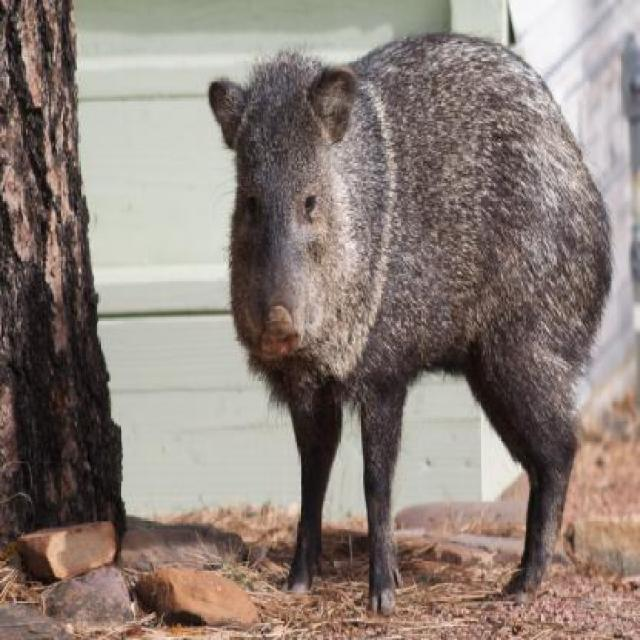pig: (206, 39, 618, 618)
